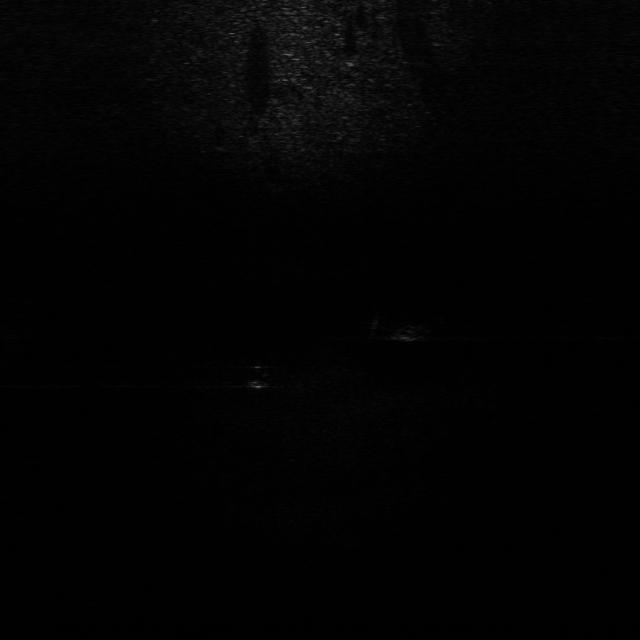ball: (234, 359, 280, 393)
human body: (363, 302, 447, 349)
